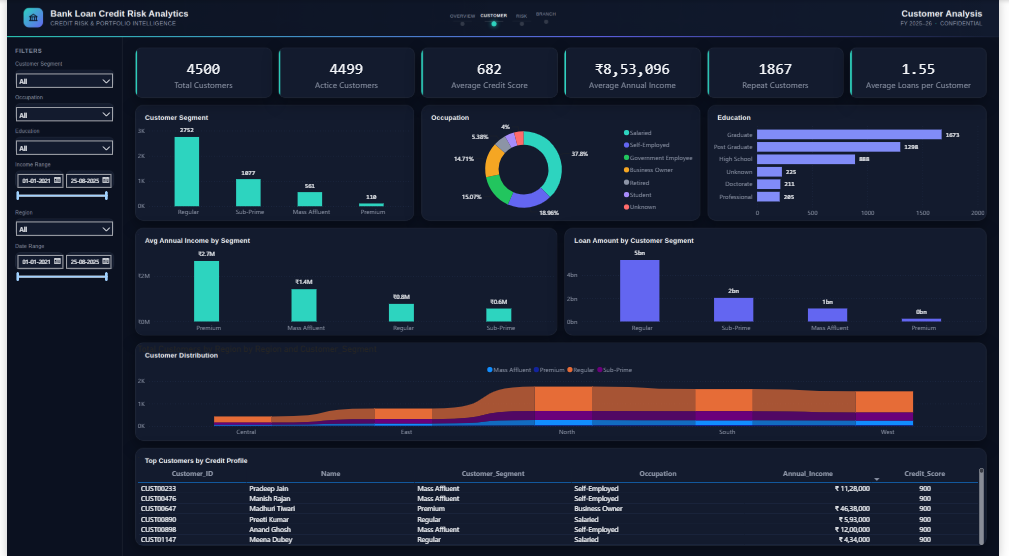

What the dashboard file says about the page in this screenshot:
{"tool":"powerbi","page":{"name":"Customer Analysis","canvas":[1920,1080],"ordinal":1},"visuals":[{"type":"cardVisual","fields":{"Data":["_Measures.Total Customers"]},"box":[248,96,265,97],"z":0},{"type":"cardVisual","fields":{"Data":["_Measures.Average Annual Income"]},"box":[1078,96,265,97],"z":1000},{"type":"cardVisual","fields":{"Data":["_Measures.Actice Customers"]},"box":[525,96,265,97],"z":2000},{"type":"cardVisual","fields":{"Data":["_Measures.Average Credit Score"]},"box":[801,96,265,97],"z":3000},{"type":"cardVisual","fields":{"Data":["_Measures.Repeat Customers"]},"box":[1355,96,265,97],"z":4000},{"type":"cardVisual","fields":{"Data":["_Measures.Average Loans per Customer"]},"box":[1631,96,265,97],"z":5000},{"type":"clusteredColumnChart","title":".","fields":{"Y":["_Measures.Total Customers"],"Category":["Customers.Customer_Segment"]},"box":[248,205,540,224],"z":6000},{"type":"donutChart","title":".","fields":{"Category":["Customers.Occupation"],"Y":["_Measures.Total Customers"]},"box":[802,205,540,224],"z":7000},{"type":"clusteredBarChart","title":".","fields":{"Y":["_Measures.Total Customers"],"Category":["Customers.Education"]},"box":[1356,205,540,224],"z":8000},{"type":"clusteredColumnChart","title":".","fields":{"Category":["Customers.Customer_Segment"],"Y":["_Measures.Average Annual Income"]},"box":[248,443,817,209],"z":9000},{"type":"clusteredColumnChart","title":".","fields":{"Y":["_Measures.Total Loan Amount"],"Category":["Customers.Customer_Segment"]},"box":[1079,443,817,209],"z":10000},{"type":"ribbonChart","fields":{"Category":["Branches.Region"],"Series":["Customers.Customer_Segment"],"Y":["_Measures.Total Customers by Region"]},"box":[248,665,1648,189],"z":11000},{"type":"tableEx","title":".","fields":{"Values":["Customers.Customer_ID","Customers.Name","Customers.Customer_Segment","Customers.Occupation","Customers.Annual_Income","Customers.Credit_Score"]},"box":[248,871,1648,189],"z":12000},{"type":"slicer","fields":{"Values":["Customers.Customer_Segment"]},"box":[8,131,207,48],"z":13000},{"type":"slicer","fields":{"Values":["Branches.Region"]},"box":[8,419,207,50],"z":14000},{"type":"slicer","fields":{"Values":["Customers.Customer_Segment"]},"box":[8,261,207,50],"z":15000},{"type":"slicer","fields":{"Values":["Customers.Customer_Segment"]},"box":[8,197,207,50],"z":16000},{"type":"slicer","fields":{"Values":["Calendar.Date"]},"box":[8,328,215,72],"z":17000},{"type":"slicer","fields":{"Values":["Calendar.Date"]},"box":[8,484,215,72],"z":18000}]}

Visuals, with their boxes on the page's 1920x1080 design canvas (x1, y1, x2, y2). These are canvas units, not pixel positions in the 1009x556 screenshot, which may show the page scaled, cropped or inside an application window:
cardVisual - _Measures.Total Customers: (left=248, top=96, right=513, bottom=193)
cardVisual - _Measures.Average Annual Income: (left=1078, top=96, right=1343, bottom=193)
cardVisual - _Measures.Actice Customers: (left=525, top=96, right=790, bottom=193)
cardVisual - _Measures.Average Credit Score: (left=801, top=96, right=1066, bottom=193)
cardVisual - _Measures.Repeat Customers: (left=1355, top=96, right=1620, bottom=193)
cardVisual - _Measures.Average Loans per Customer: (left=1631, top=96, right=1896, bottom=193)
"." clusteredColumnChart: (left=248, top=205, right=788, bottom=429)
"." donutChart: (left=802, top=205, right=1342, bottom=429)
"." clusteredBarChart: (left=1356, top=205, right=1896, bottom=429)
"." clusteredColumnChart: (left=248, top=443, right=1065, bottom=652)
"." clusteredColumnChart: (left=1079, top=443, right=1896, bottom=652)
ribbonChart - Branches.Region x Customers.Customer_Segment: (left=248, top=665, right=1896, bottom=854)
"." tableEx: (left=248, top=871, right=1896, bottom=1060)
slicer - Customers.Customer_Segment: (left=8, top=131, right=215, bottom=179)
slicer - Branches.Region: (left=8, top=419, right=215, bottom=469)
slicer - Customers.Customer_Segment: (left=8, top=261, right=215, bottom=311)
slicer - Customers.Customer_Segment: (left=8, top=197, right=215, bottom=247)
slicer - Calendar.Date: (left=8, top=328, right=223, bottom=400)
slicer - Calendar.Date: (left=8, top=484, right=223, bottom=556)
